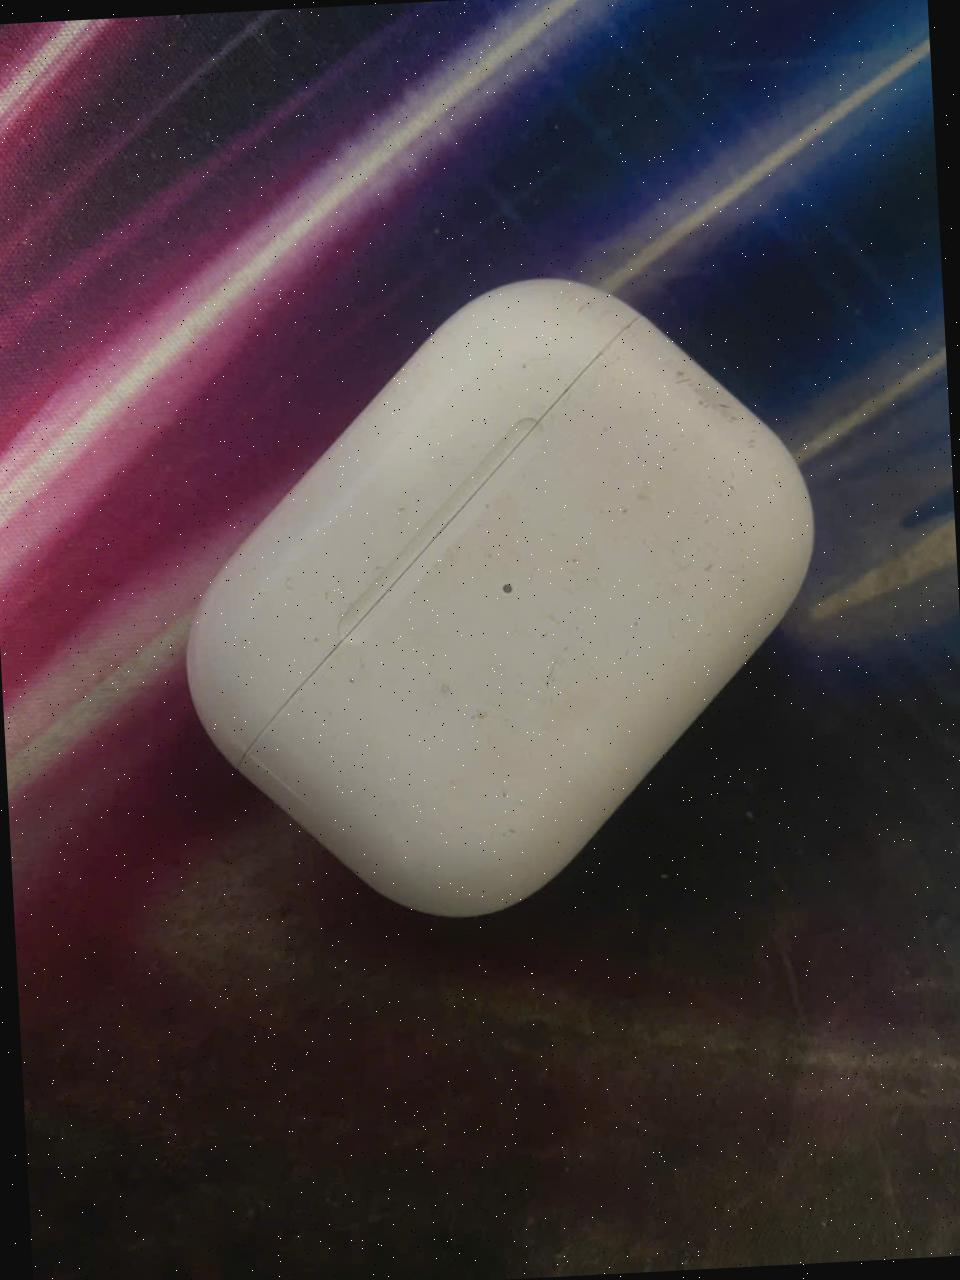airpod: (187, 280, 812, 917)
